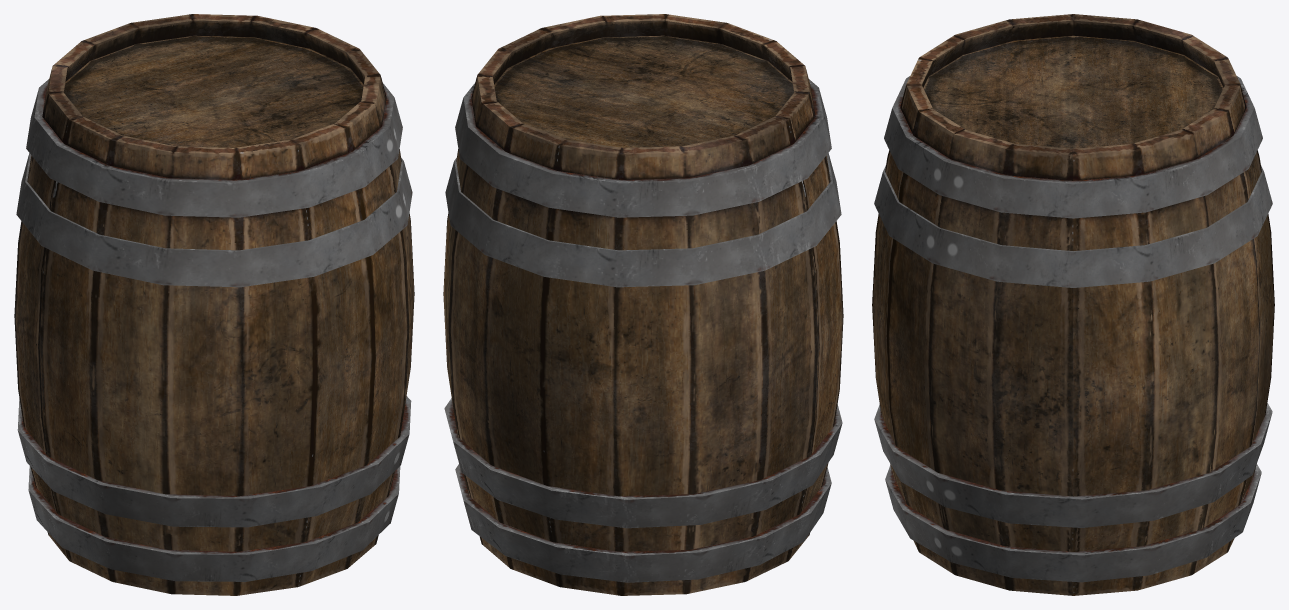
The model's file is Barrel.fbx.
3 views of the same model, side by side, from view 1: azimuth 30°, elevation 25°; view 2: azimuth 150°, elevation 25°; view 3: azimuth 270°, elevation 25° (orthographic).
Visible parts, largest first — view 1: Barrel.001; view 2: Barrel.001; view 3: Barrel.001.
Part boxes in pixels (x1,y1,x2,y2): Barrel.001: (14, 14, 414, 595); Barrel.001: (443, 14, 843, 595); Barrel.001: (872, 14, 1274, 595).
Size of the model in its own units: 81.81 by 98.74 by 81.81.
Materials: 1 (1 with a texture image).
